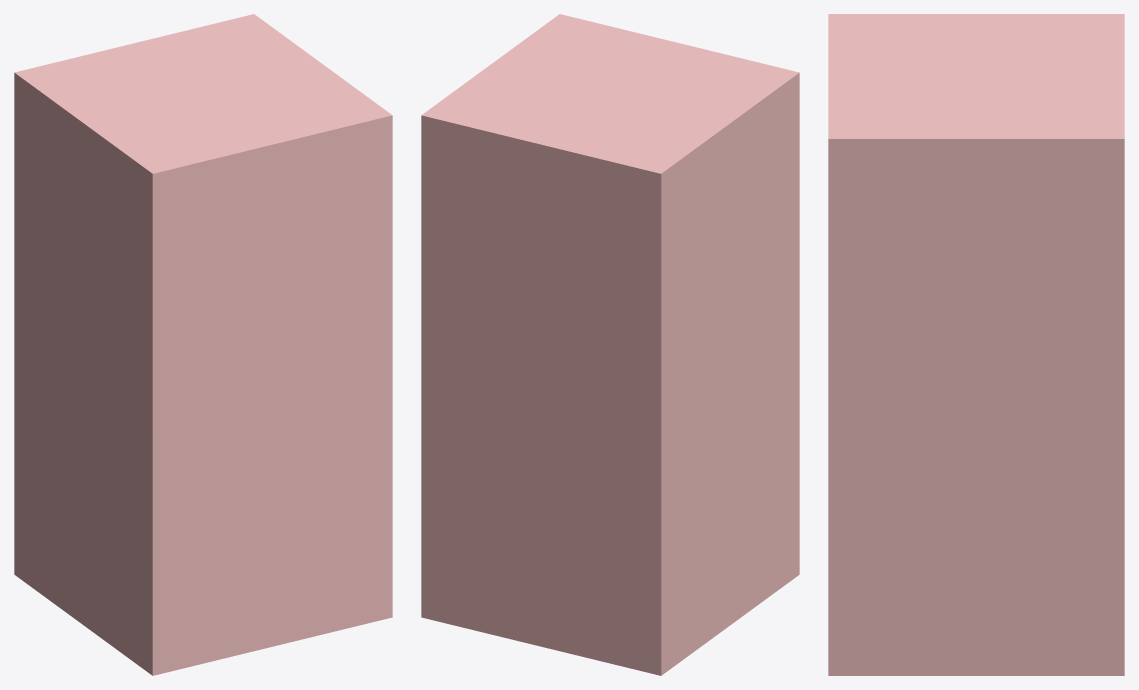
File: Abstract_Castle_Block_Double_Pink_01.fbx
3 views of the same model, side by side, from view 1: azimuth 30°, elevation 25°; view 2: azimuth 150°, elevation 25°; view 3: azimuth 270°, elevation 25° (orthographic). The views are drawn at different scales.
Visible parts, largest first — view 1: Model; view 2: Model; view 3: Model.
Boxes of the visible parts, bbox=[...] form: Model: bbox=[14, 14, 392, 675]; Model: bbox=[421, 14, 799, 675]; Model: bbox=[828, 14, 1124, 675].
Size of the model in its own units: 1000 by 2000 by 1000.
